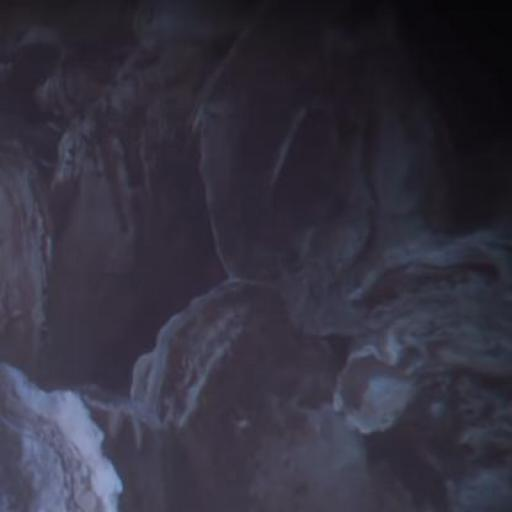Oyster-Closed: (208, 5, 461, 333), (1, 147, 56, 376)
Oyster-Open: (129, 286, 267, 502), (1, 369, 122, 512)
